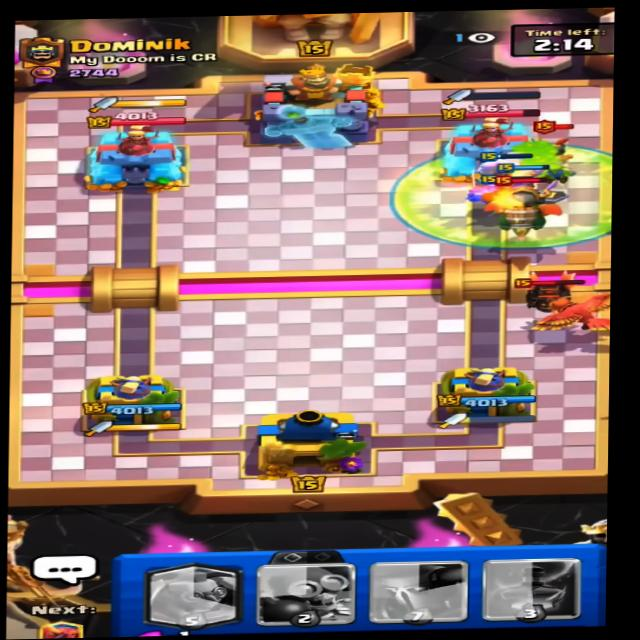inferno-dragon: (489, 171, 552, 226)
lava-hound: (505, 268, 589, 317)
